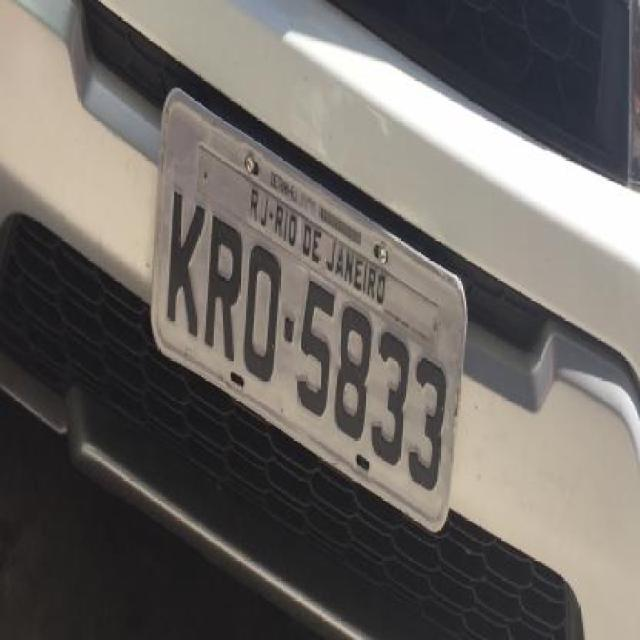old_plate: (143, 79, 474, 538)
